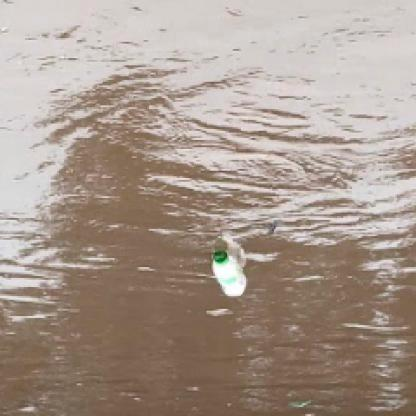Plastic: (203, 250, 256, 300)
